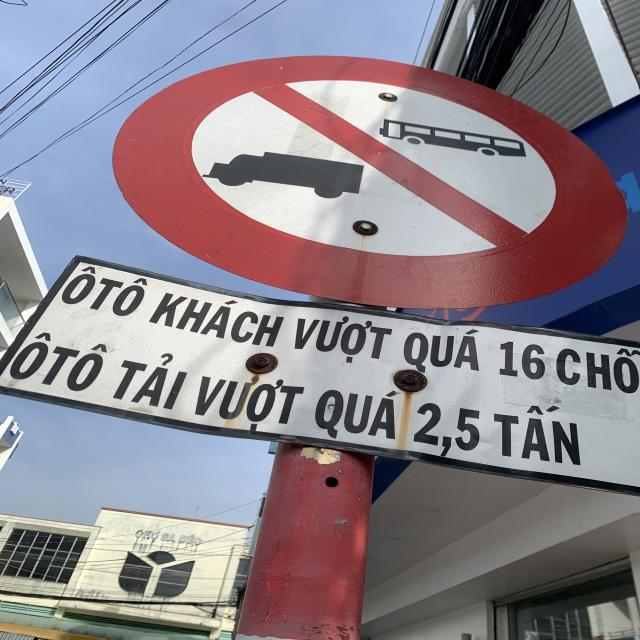Cam_XeTai_XeKhach: (110, 54, 628, 311)
